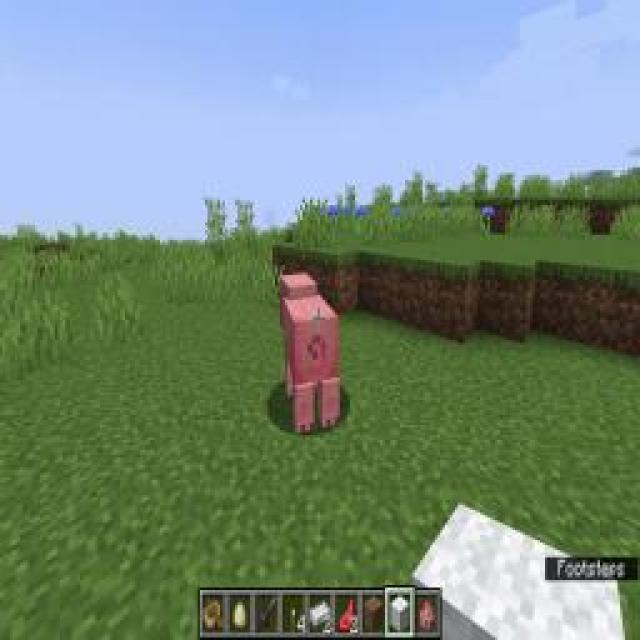Pig: (278, 268, 344, 438)
